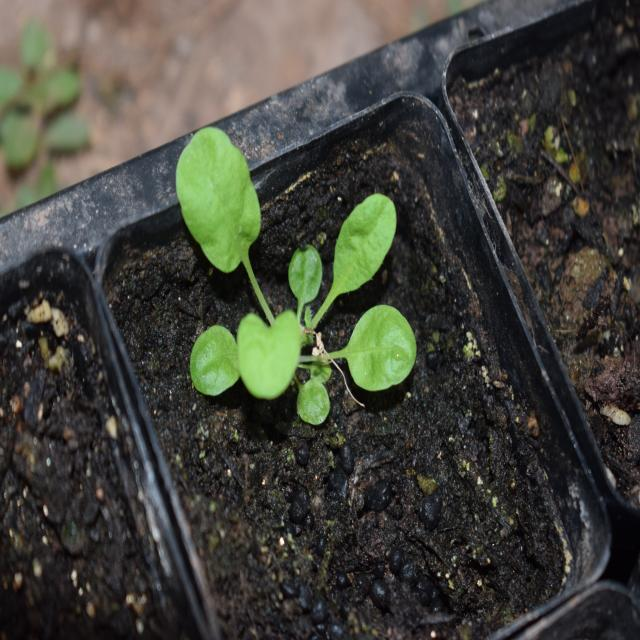Shepherd_Purse: (160, 121, 426, 418)
